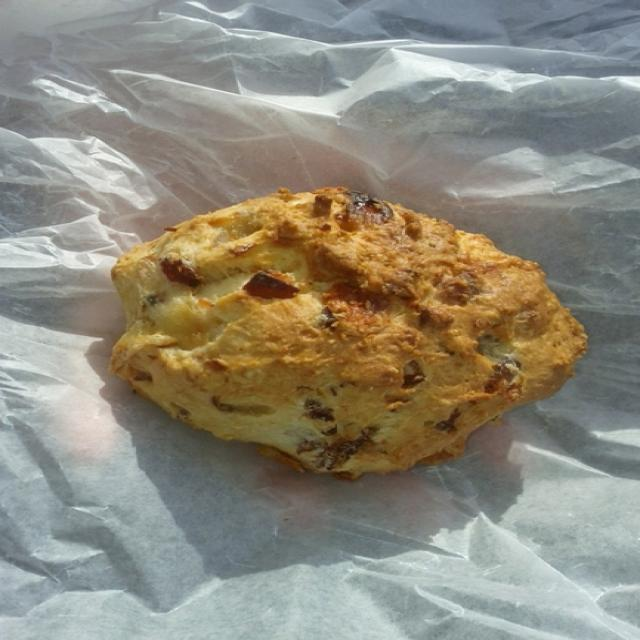面包点心: (99, 162, 599, 506)
